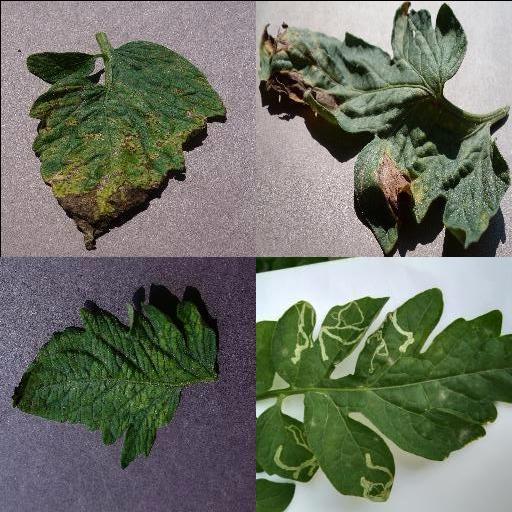Early Blight: (259, 0, 512, 256)
Leaf Miner: (271, 287, 512, 502), (256, 403, 319, 482)
Mosaic Virus: (9, 297, 219, 471)
Septoria: (24, 40, 226, 248)
